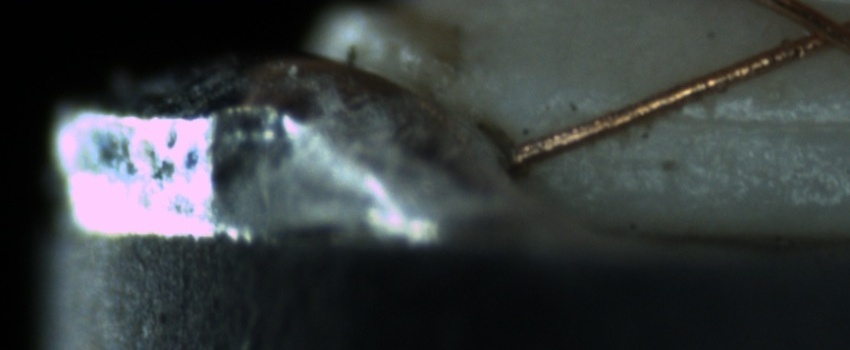CL: (774, 3, 849, 60)
DL: (630, 85, 849, 155)
